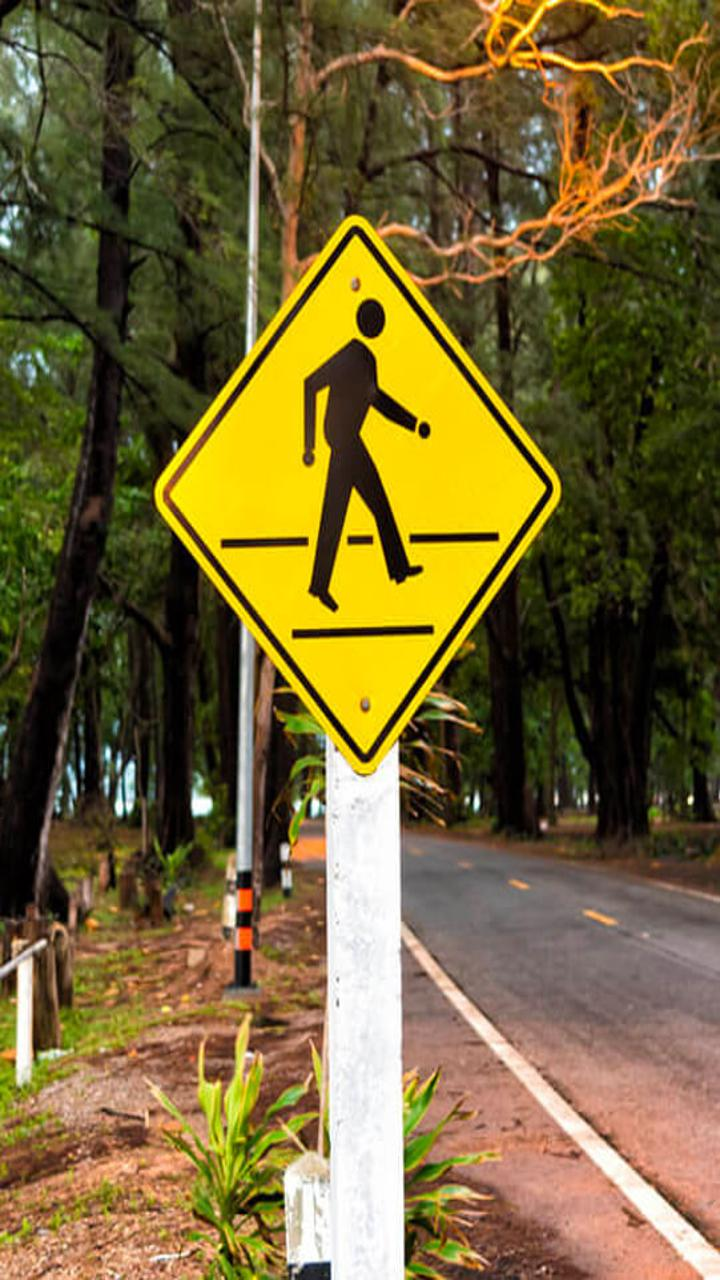Traffic sign: (144, 227, 559, 779)
